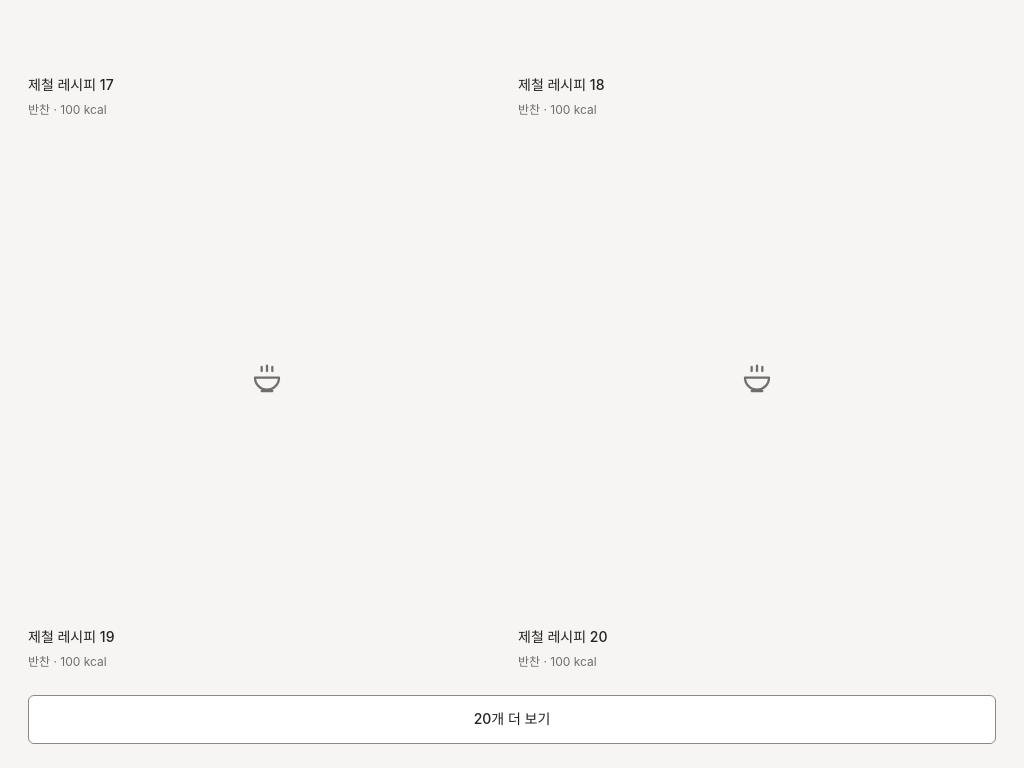
it: 테마 전체보기 › 더 보기 실패 후 이미 본 목록을 유지하며 같은 위치부터 다시 받는다
This screenshot has width=1024, height=768.
(page scrolled)
What coordinates should you click on to do the following:
click the button "20개 더 보기"
I would click on:
 (512, 720)
Its box is [28,695,996,744].
(page scrolled)
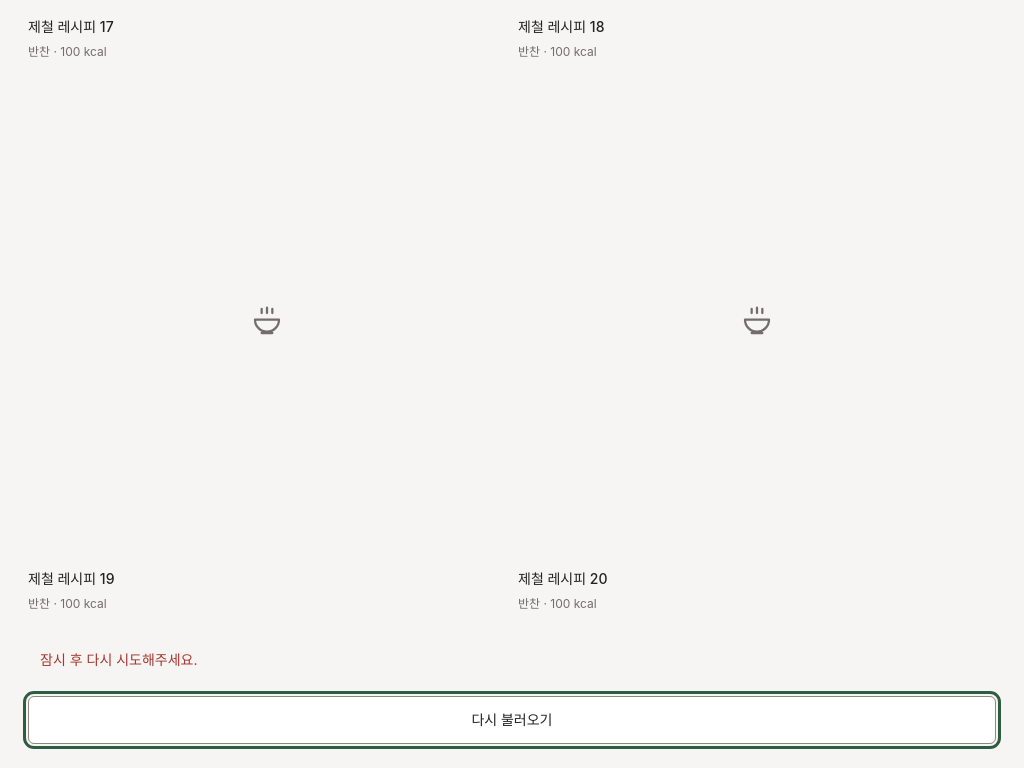
Expected: the message reads "잠시 후 다시 시도해주세요.", [40,651,198,668]
What coordinates should you click on to do the following:
click the button "다시 불러오기"
I would click on:
 (512, 720)
Its box is [28,696,996,744].
(page scrolled)
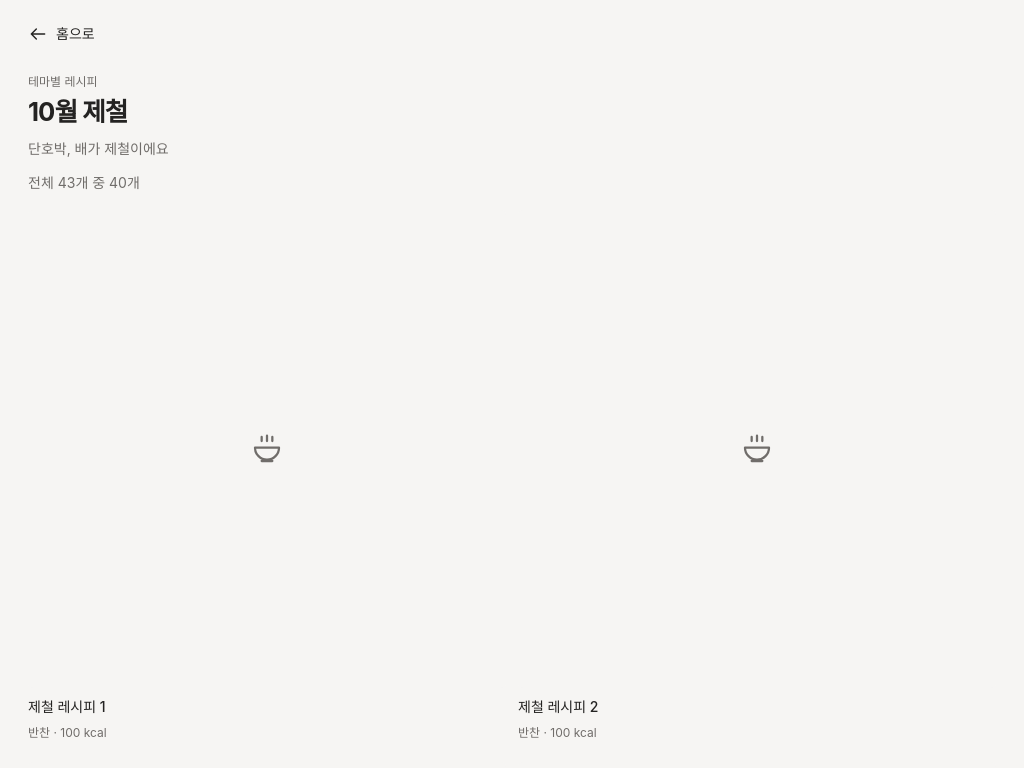
Expected: the text "전체 43개 중 40개" is shown, [28,174,140,191]
